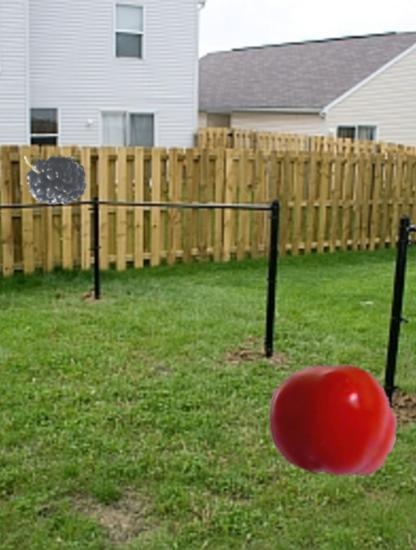Mulberry: (20, 149, 92, 221)
Tomato: (268, 354, 399, 485)
